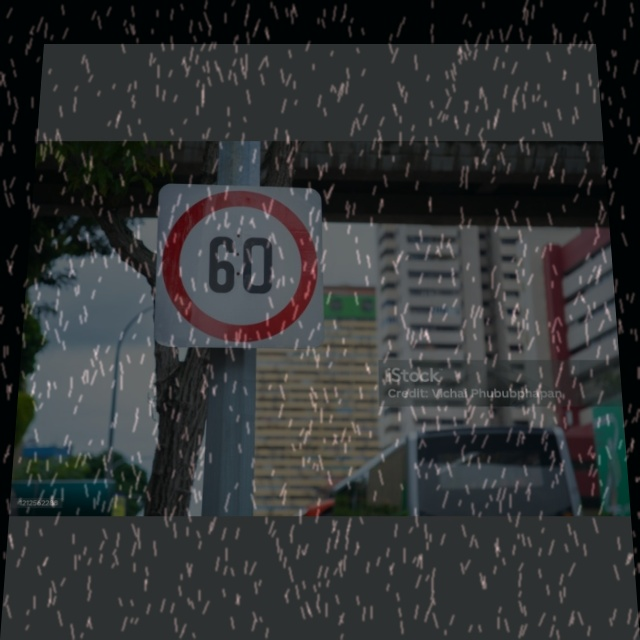Speed_Limit_60: (154, 187, 325, 350)
